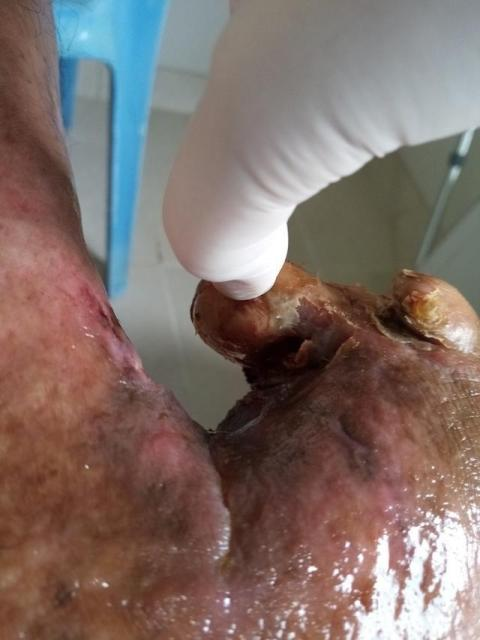wound: (67, 279, 353, 565)
